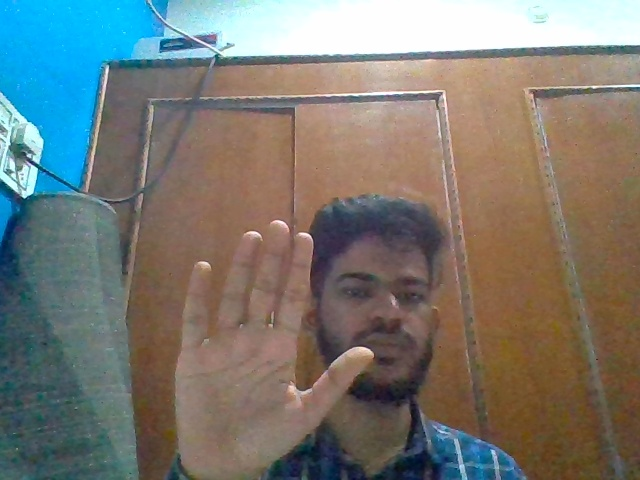hello: (170, 218, 378, 480)
